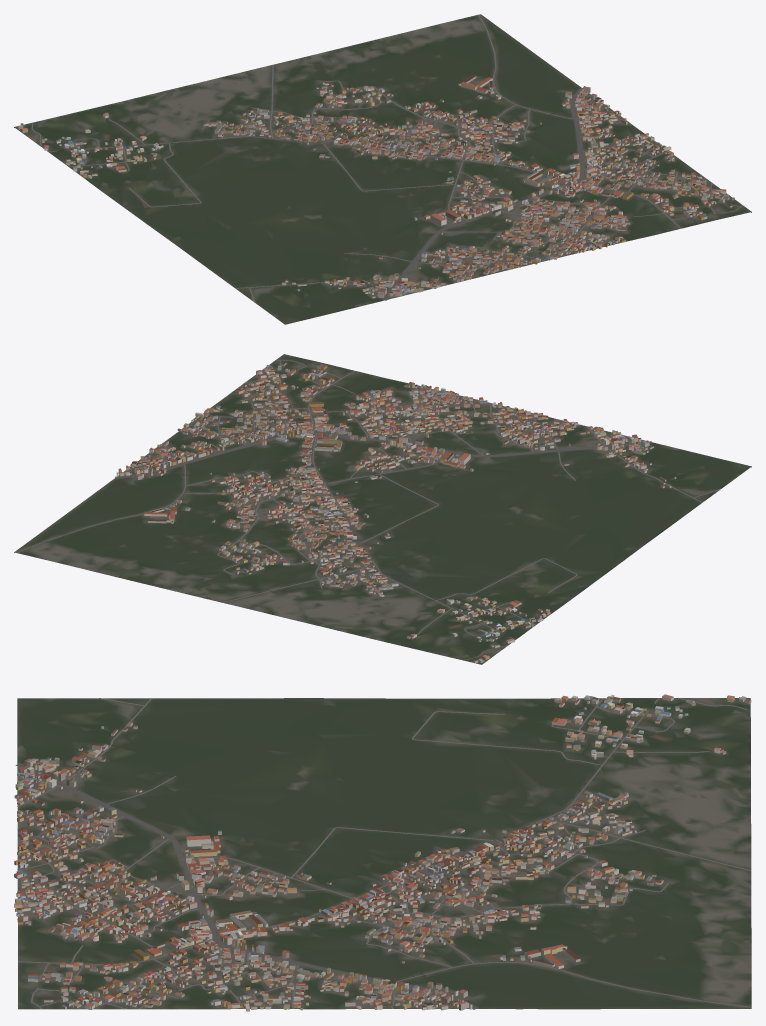
3 renders of one model, top to bottom at view 1: azimuth 30°, elevation 25°; view 2: azimuth 150°, elevation 25°; view 3: azimuth 270°, elevation 25°, orthographic. The views are drawn at different scales.
Visible parts, largest first — view 1: ground, buildings, roads; view 2: ground, buildings, roads; view 3: ground, buildings, roads.
Part boxes in pixels (bbox=[...]): ground: bbox=[14, 14, 751, 324]; buildings: bbox=[18, 75, 734, 298]; roads: bbox=[31, 14, 743, 302]; ground: bbox=[14, 354, 751, 664]; buildings: bbox=[116, 362, 676, 663]; roads: bbox=[16, 360, 721, 659]; ground: bbox=[17, 698, 751, 1009]; buildings: bbox=[14, 694, 751, 1011]; roads: bbox=[15, 698, 751, 1009].
Size of the model in its own units: 1414 by 22 by 1410.
